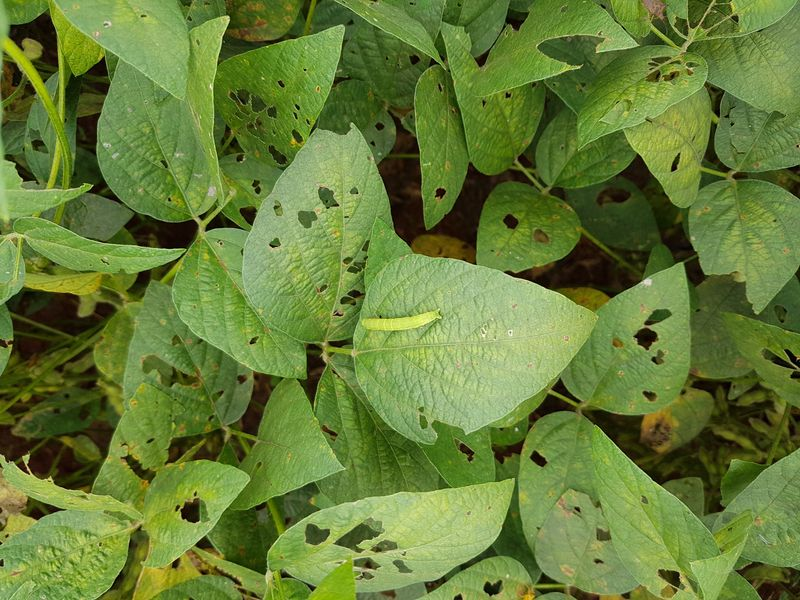Anticarsia_gemmatalis: (344, 289, 457, 360)
Euschistus_heros_adulto: (632, 1, 677, 28)
